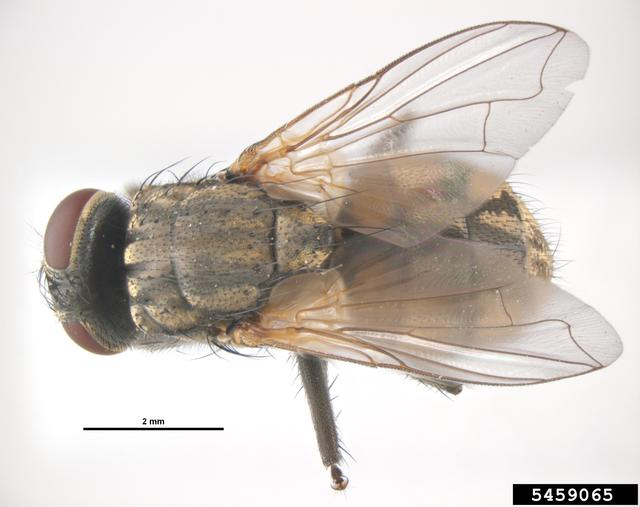house fly: (31, 18, 626, 485)
